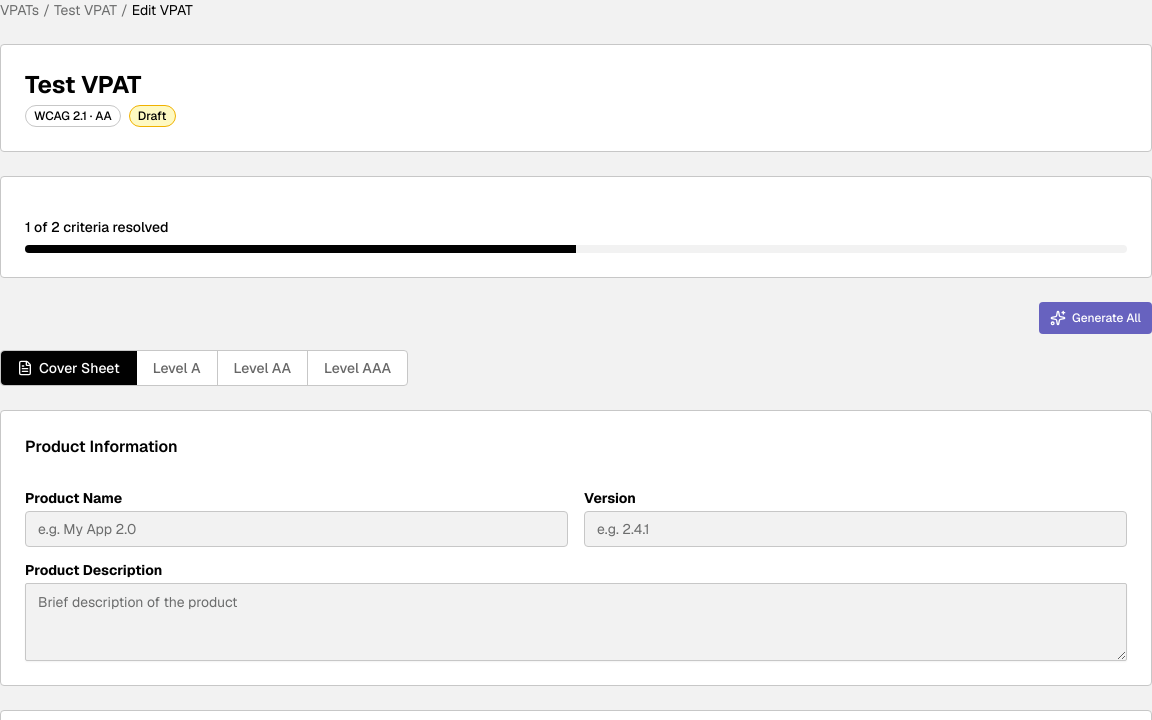
VpatEditPage › opens issues panel when criterion name is clicked
The width and height of the screenshot is (1152, 720).
Click the tab "Level A" at (177, 368), box [137,351,218,385]
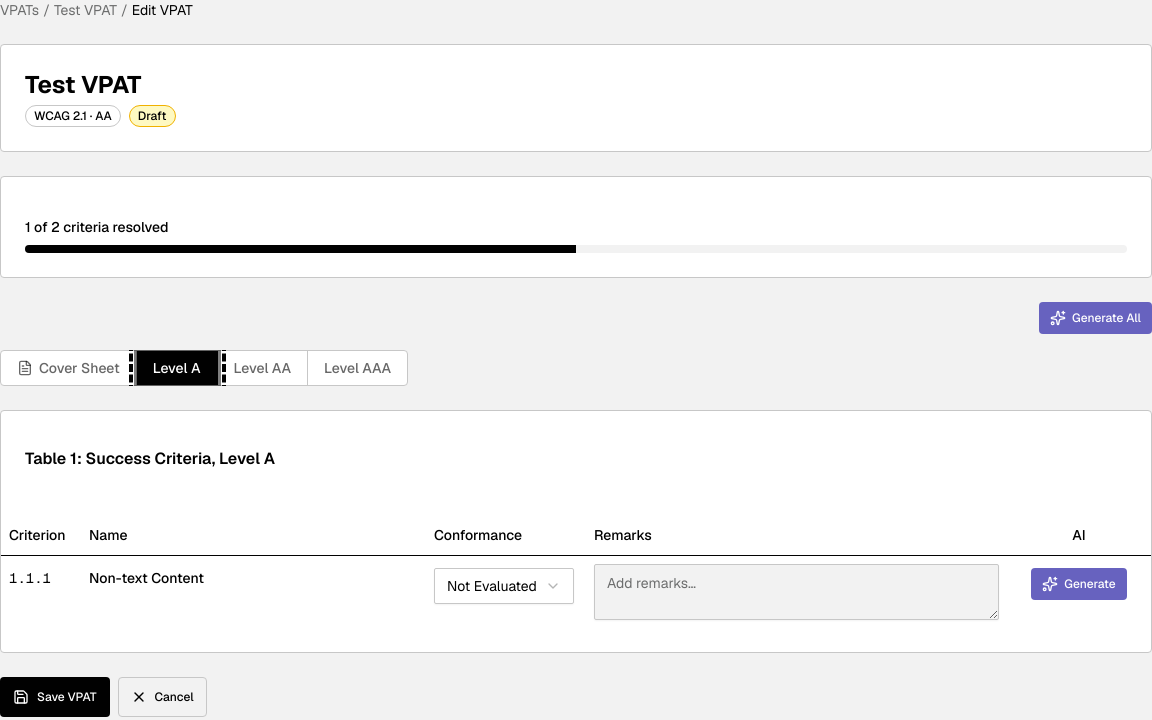
Expected: the button with aria-label "view issues for 1.1.1" is shown
Click the button with aria-label "view issues for 1.1.1" at (146, 578), box [89,568,204,588]
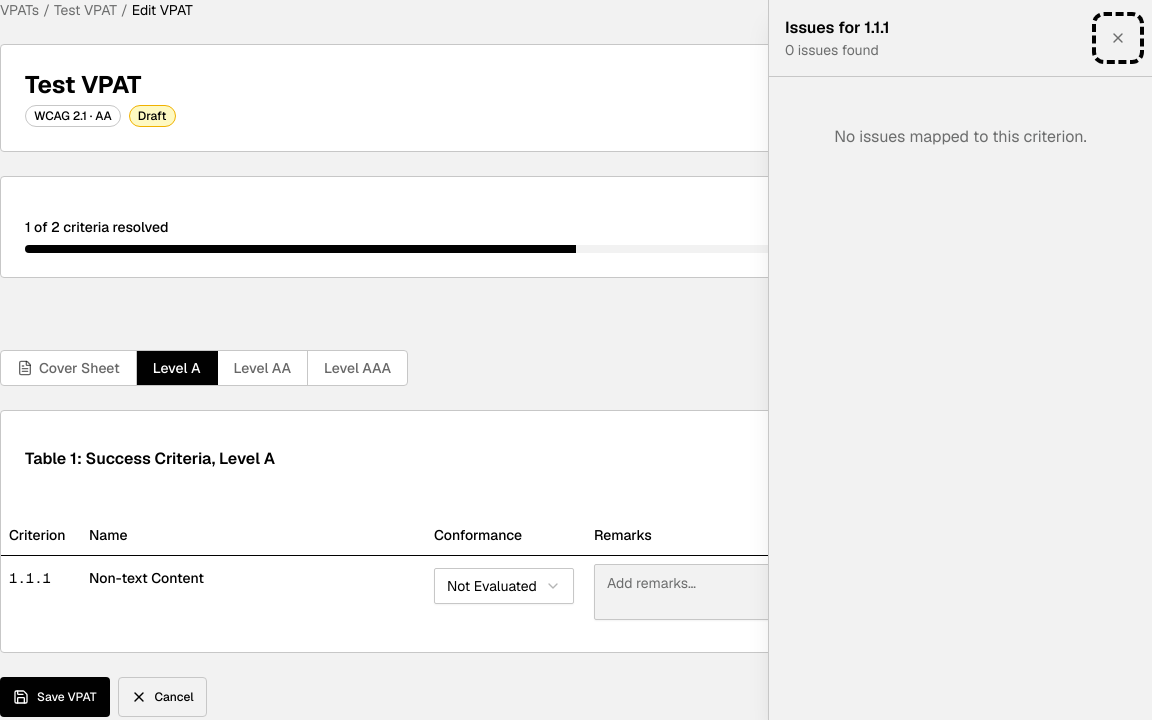
Expected: the dialog named "issues for criterion 1.1.1" is shown, [768,0,1151,719]
